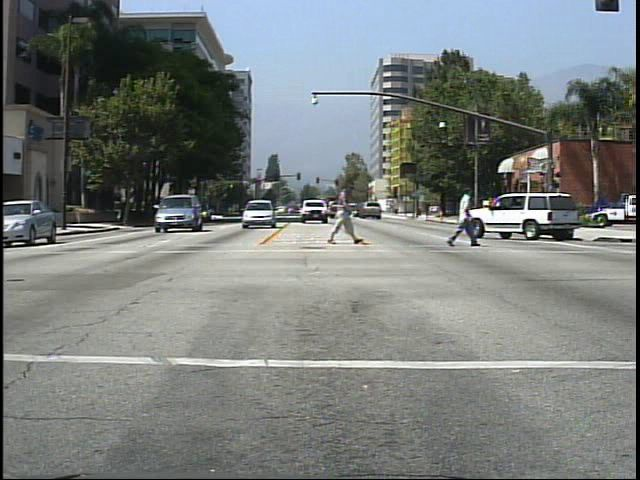person: (322, 176, 359, 250), (448, 178, 484, 254)
